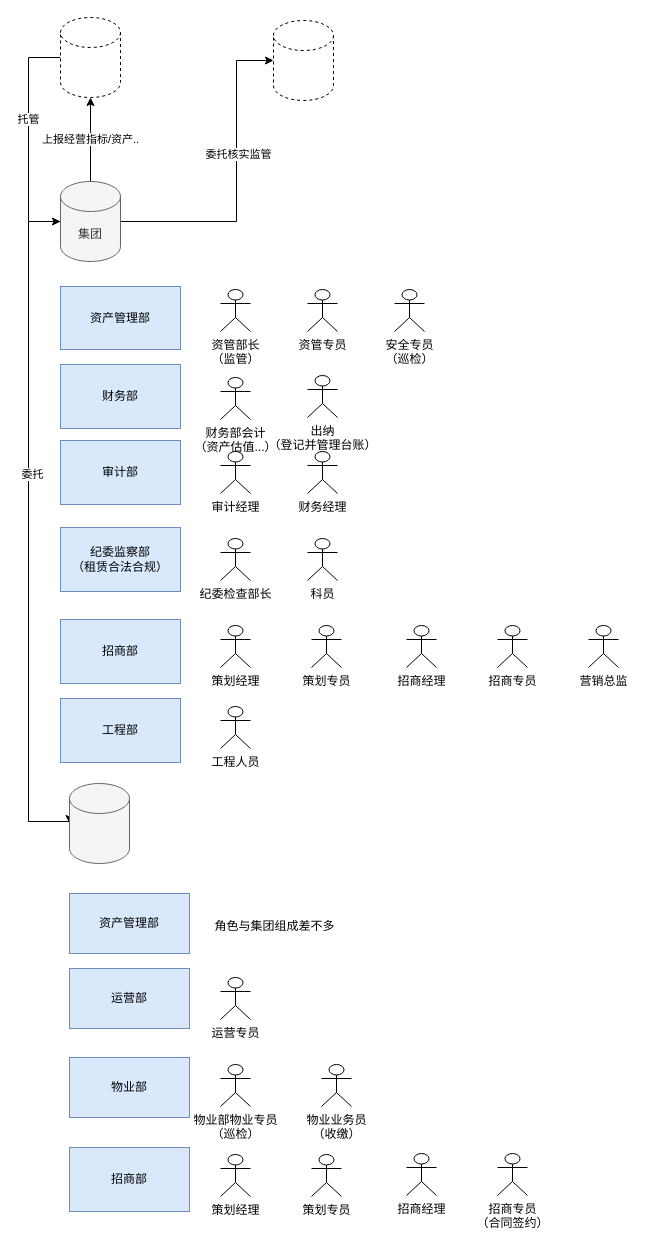
This 645x1249 diagram has some shape labels left out. Here are the shapes that lost their labels. From the top down, the centre of each, then its label:
point 90,57: 国资委
point 303,60: 事务所
point 99,823: 运营公司
